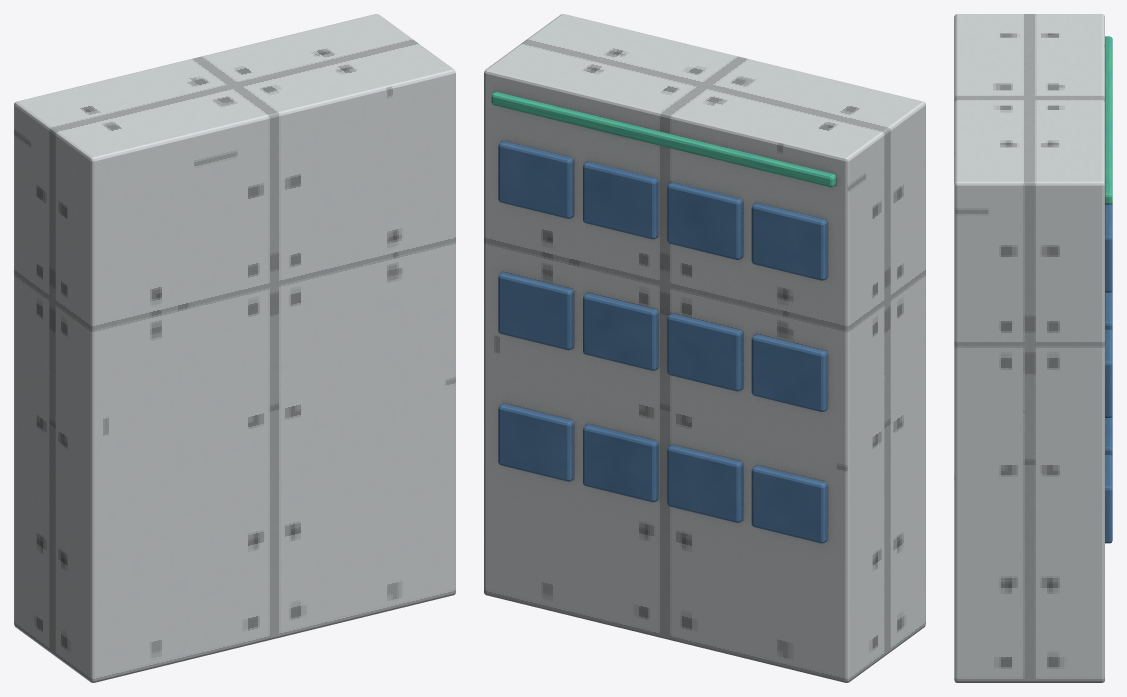
Rendered from base_med_cabinet.glb.
3 renders of one model, left to right at view 1: azimuth 30°, elevation 25°; view 2: azimuth 150°, elevation 25°; view 3: azimuth 270°, elevation 25°, orthographic. The views are drawn at different scales.
Visible parts, largest first — view 1: base_med_cabinet; view 2: base_med_cabinet; view 3: base_med_cabinet.
Boxes of the visible parts, x1,y1,x2,y2 form: base_med_cabinet: (14, 14, 455, 682); base_med_cabinet: (484, 14, 925, 682); base_med_cabinet: (954, 14, 1112, 682).
Bounding box in the file's own units: 1.6 × 2.2 × 0.63.
3 materials, 3 textured.
